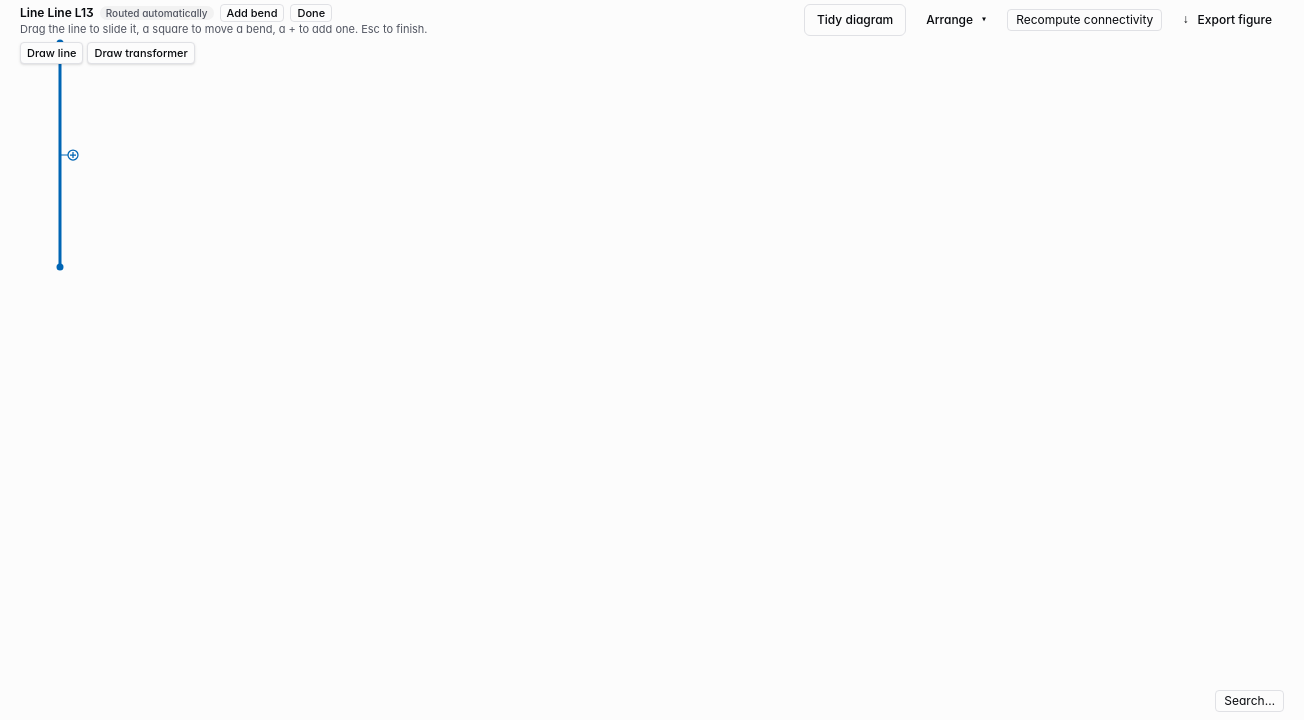
Test case: bends › puts a bend into a run with Add bend, and makes a step of the half that is slid
What coordinates should you click on to do the following:
click the button with test id "sld-route-add-bend"
I would click on:
 (252, 13)
Its box is [220, 4, 284, 22].
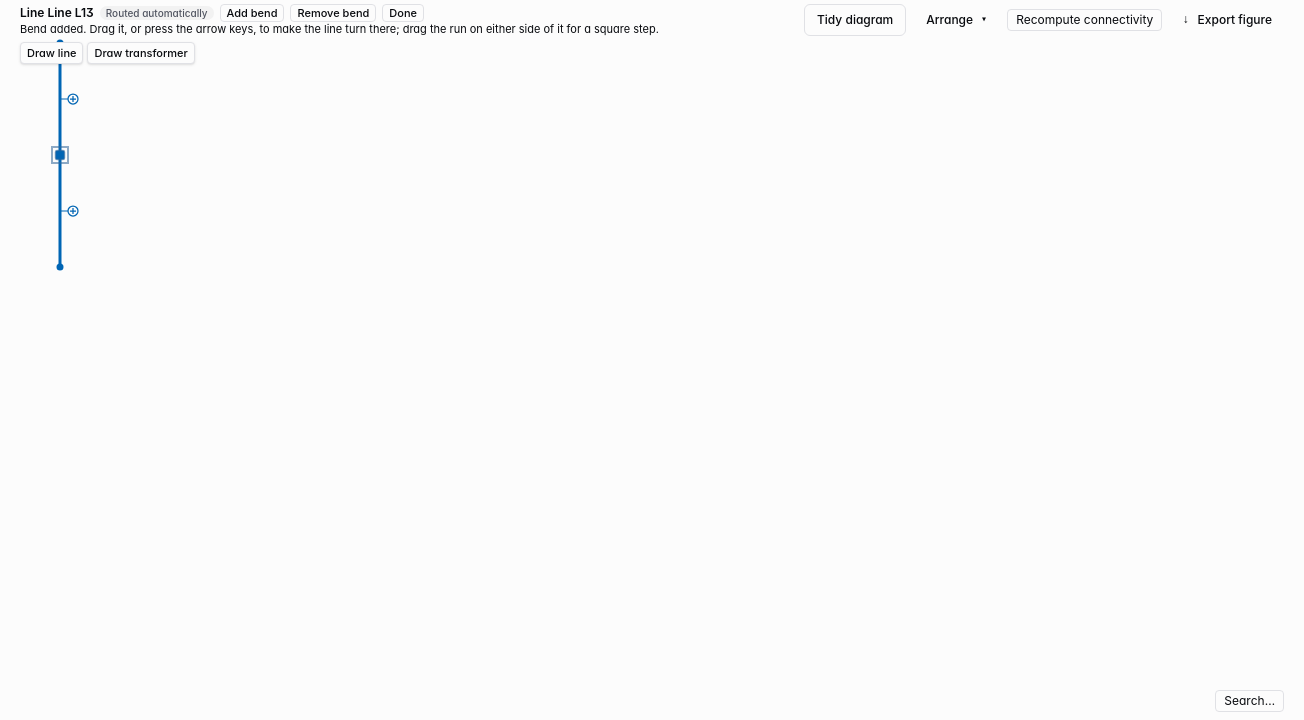
Check: the message with test id "sld-route-note" shows "Bend added.", box [20, 22, 659, 36]
// The new bend is picked: it can be taken out again at once.
What coordinates should you click on to do the following:
click the button with test id "sld-route-remove-bend"
I would click on:
 (333, 13)
Its box is [290, 4, 376, 22].
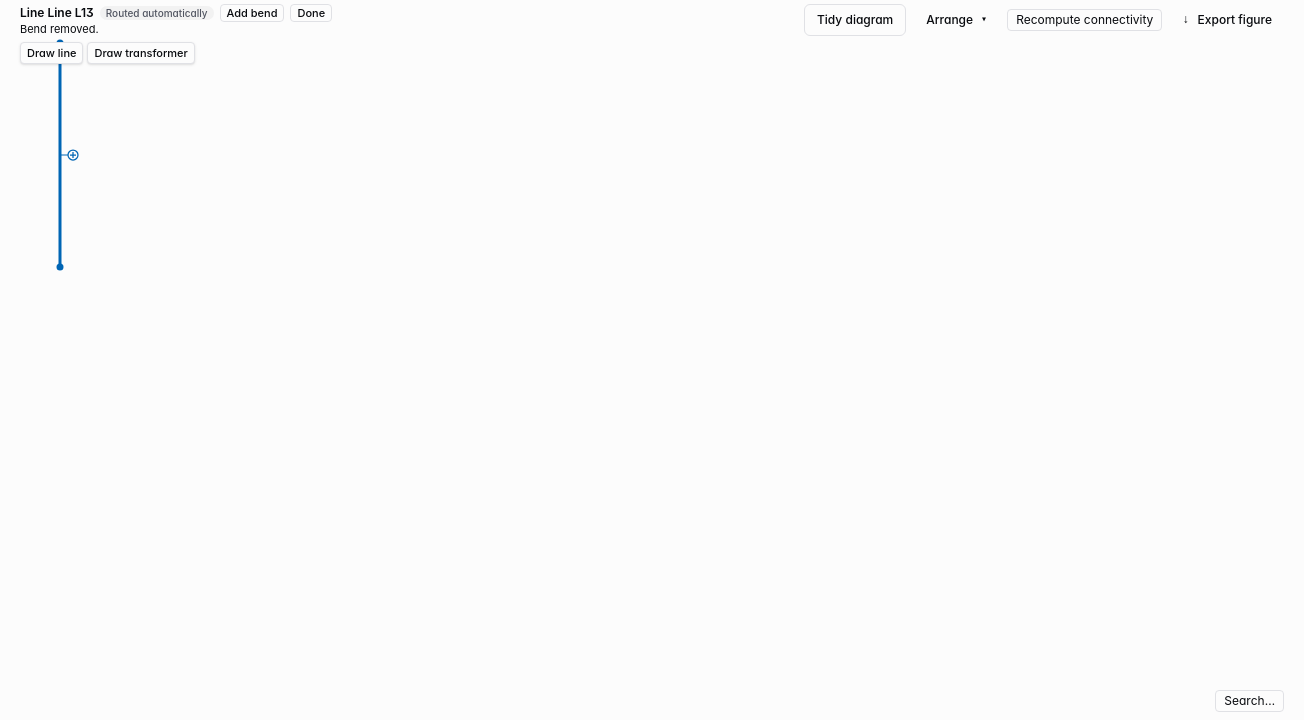
Check: the message with test id "sld-route-note" reads "Bend removed.", box [20, 22, 99, 36]
